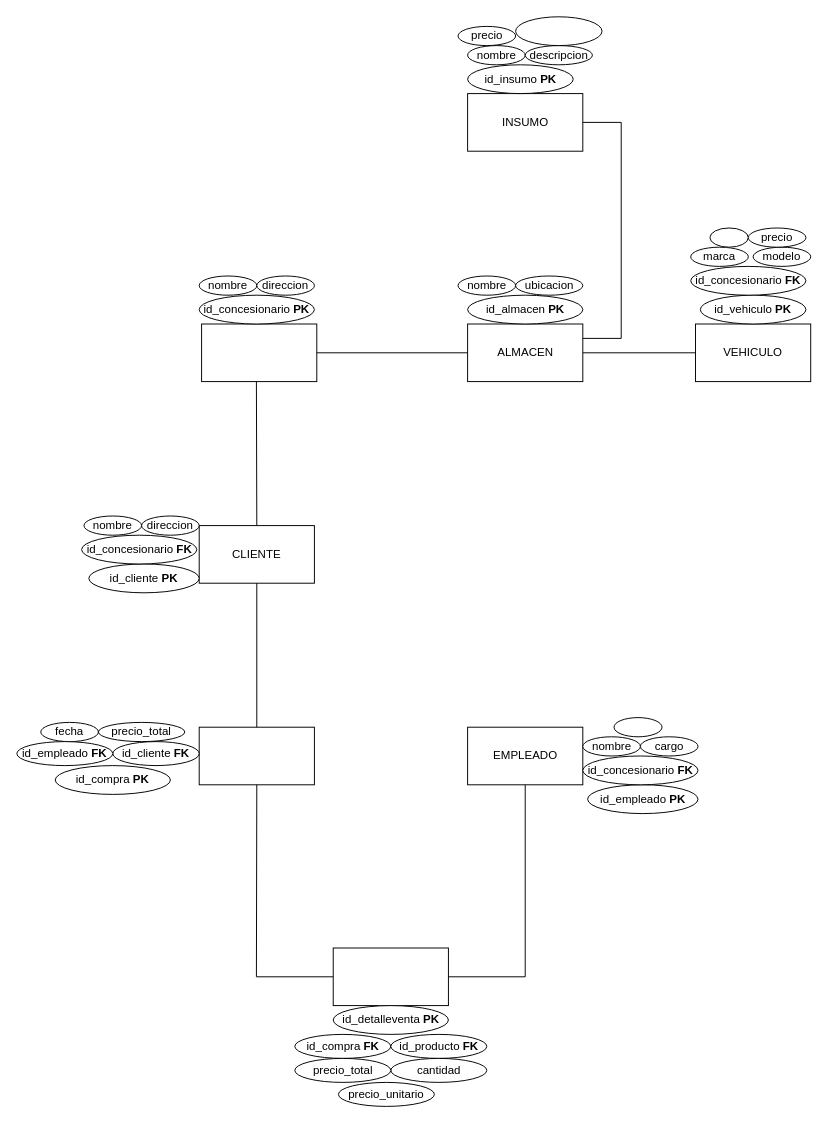
Image size: 828x1123. Some labels were removed from this diagram. The centre of each missing label's shape, as x and y in pixels:
"año" belongs at point 728,237.
"COMPRA" belongs at point 256,755.
"CONCESIONARIO" belongs at point 259,352.
"DETALLE_VENTA" belongs at point 390,976.
"id_almacen FK" belongs at point 558,31.
"salario" belongs at point 637,727.
